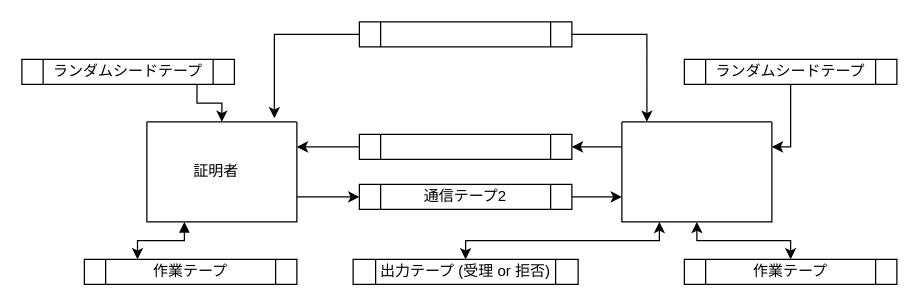
The diagram is 919 pixels wide and 306 high, and some of its shapes have lost their labels. The centre of each missing label's shape, as x and y in pixels:
入力テープ: (x=465, y=34)
検証者: (x=696, y=171)
通信テープ1: (x=465, y=146)
